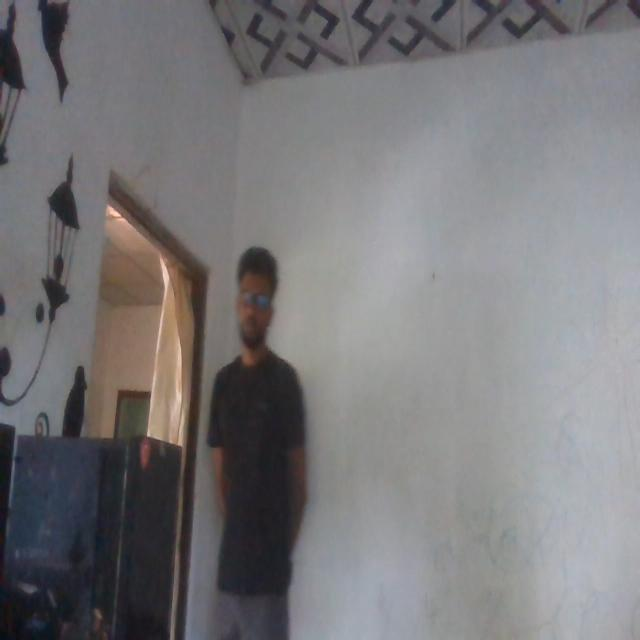Person: (208, 242, 314, 640)
